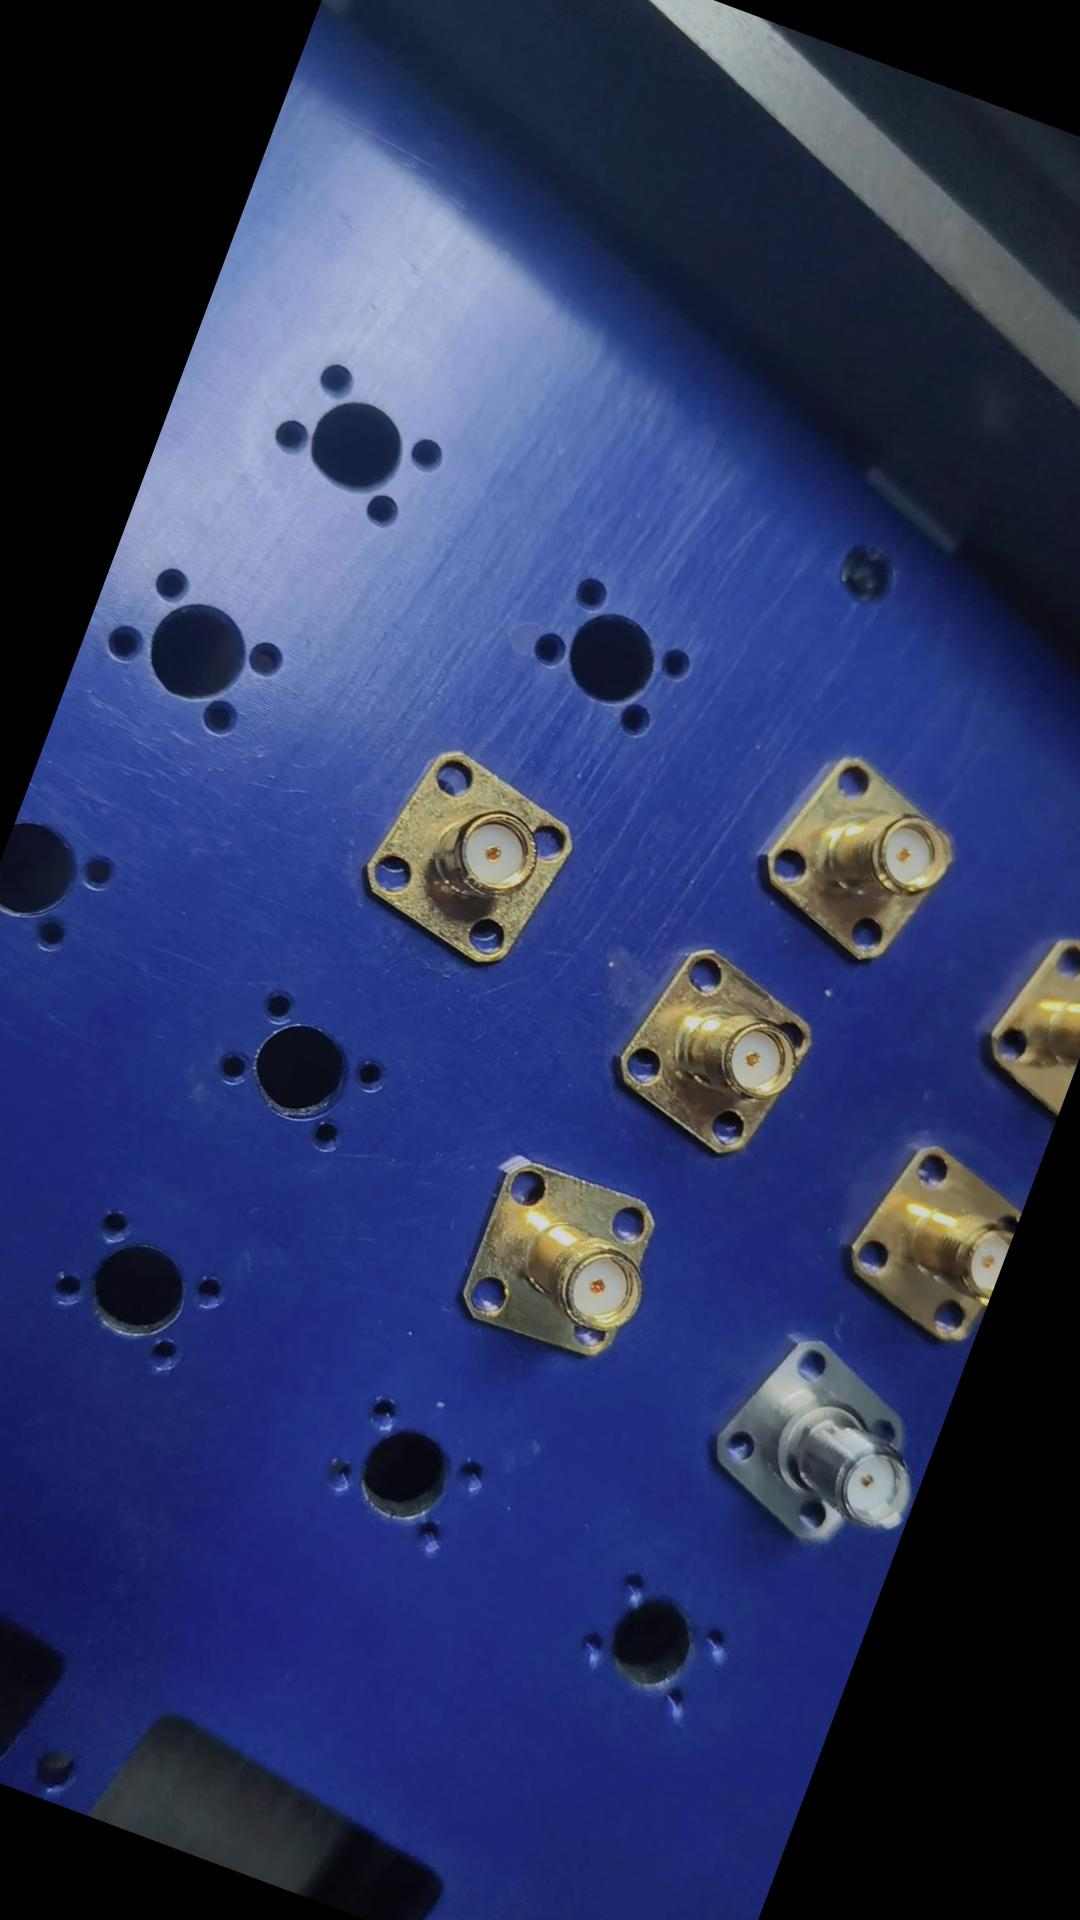SMA: (684, 1309, 949, 1575), (725, 731, 968, 992), (345, 729, 587, 981), (595, 919, 829, 1174), (436, 1141, 669, 1373), (822, 1124, 1033, 1350)
